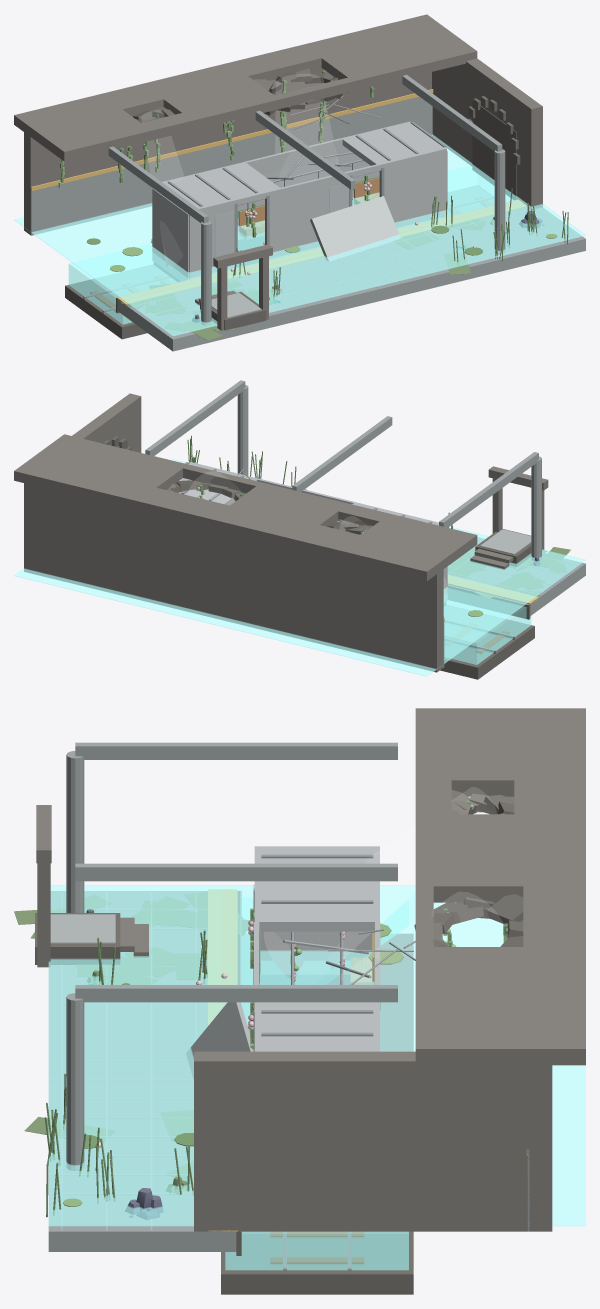
Rendered from spot_flooded_train.glb.
3 renders of one model, top to bottom at view 1: azimuth 30°, elevation 25°; view 2: azimuth 150°, elevation 25°; view 3: azimuth 270°, elevation 25°, orthographic. The views are drawn at different scales.
Parts seen in each view (by area): view 1: spot_flooded_train_body, keep_water_surface, keep_water_deep; view 2: spot_flooded_train_body, keep_water_surface, keep_water_deep; view 3: spot_flooded_train_body, keep_water_surface, keep_water_deep, spot_flooded_train_tex.
Boxes of the visible parts, <box> form: spot_flooded_train_body: <box>14,14,585,351</box>; keep_water_surface: <box>14,134,585,336</box>; keep_water_deep: <box>68,166,512,324</box>; spot_flooded_train_body: <box>14,380,585,679</box>; keep_water_surface: <box>14,459,585,676</box>; keep_water_deep: <box>444,600,531,664</box>; spot_flooded_train_body: <box>14,708,585,1294</box>; keep_water_surface: <box>48,885,585,1226</box>; keep_water_deep: <box>225,897,408,1270</box>; spot_flooded_train_tex: <box>86,909,163,1219</box>.
Size of the model in its own units: 18.07 by 6.47 by 12.77.
Materials: 26 (4 with a texture image).
